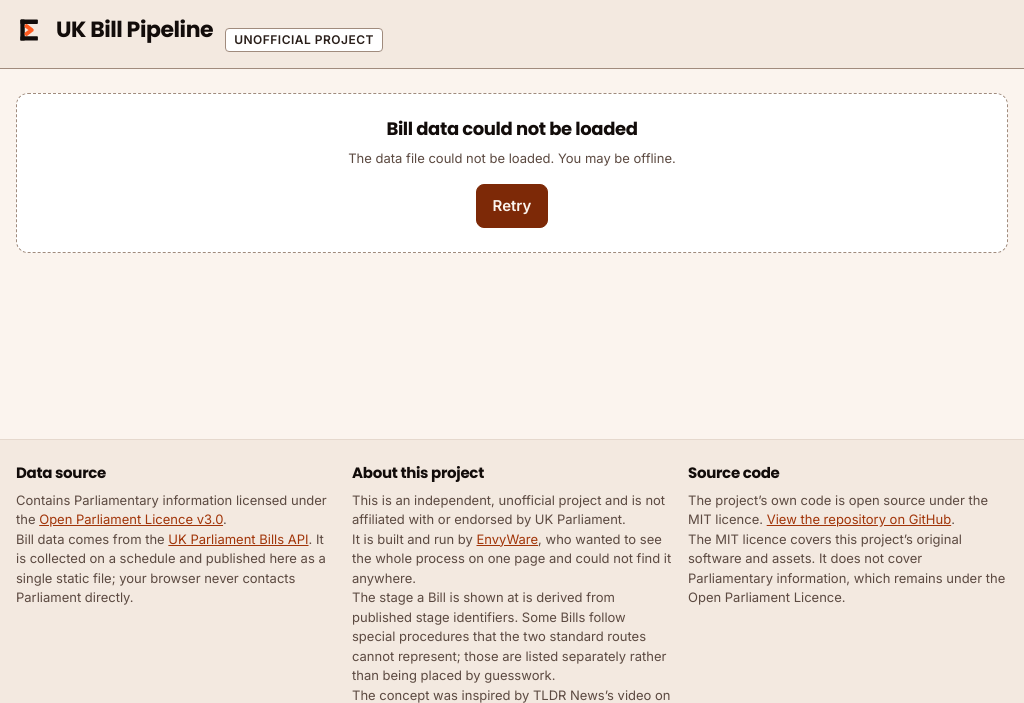
Test case: failure › reloads when Retry is pressed
Click the button "Retry" at (512, 206), box [476,184,548,228]
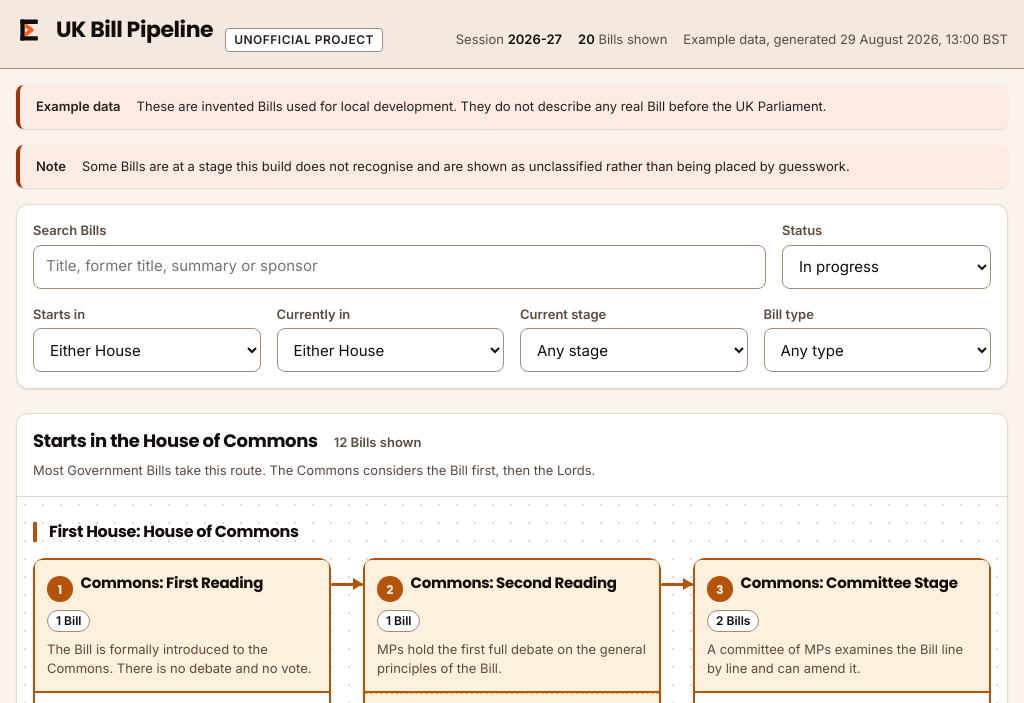
Check: the heading "Starts in the House of Commons" is shown, box [33,430,318,452]
